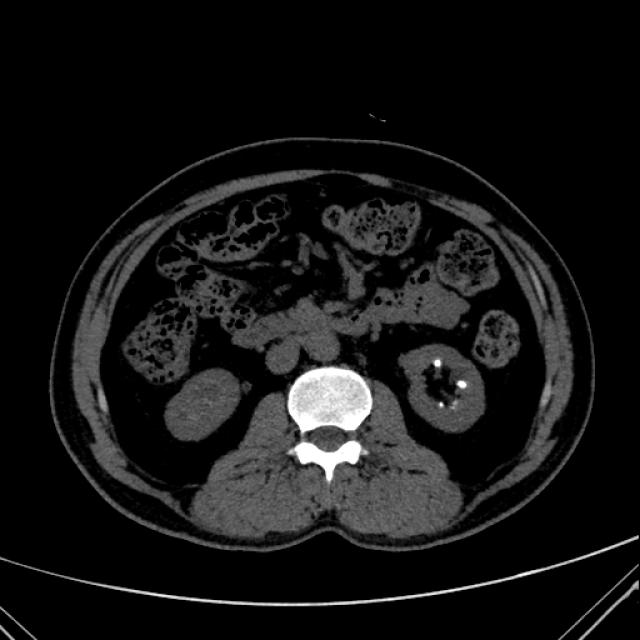kidneystone: (428, 359, 441, 368), (458, 380, 466, 388), (438, 401, 445, 409)
